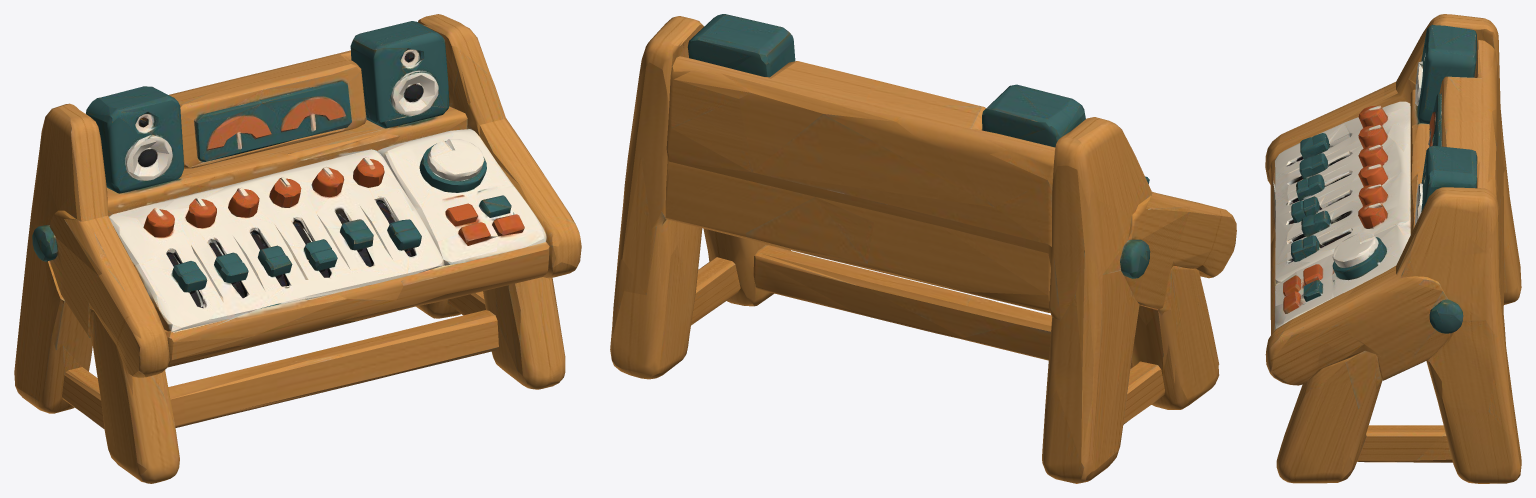
File: audioConsole.glb
3 views of the same model, side by side, from view 1: azimuth 30°, elevation 25°; view 2: azimuth 150°, elevation 25°; view 3: azimuth 270°, elevation 25° (orthographic). The views are drawn at different scales.
Visible parts, largest first — view 1: Mesh_0; view 2: Mesh_0; view 3: Mesh_0.
Part boxes in pixels (left/top/right/bottom): Mesh_0: left=14, top=14, right=581, bottom=483; Mesh_0: left=610, top=14, right=1236, bottom=483; Mesh_0: left=1265, top=14, right=1521, bottom=483.
Size of the model in its own units: 1.2 by 0.7706 by 0.6112.
Materials: 1 (1 with a texture image).
